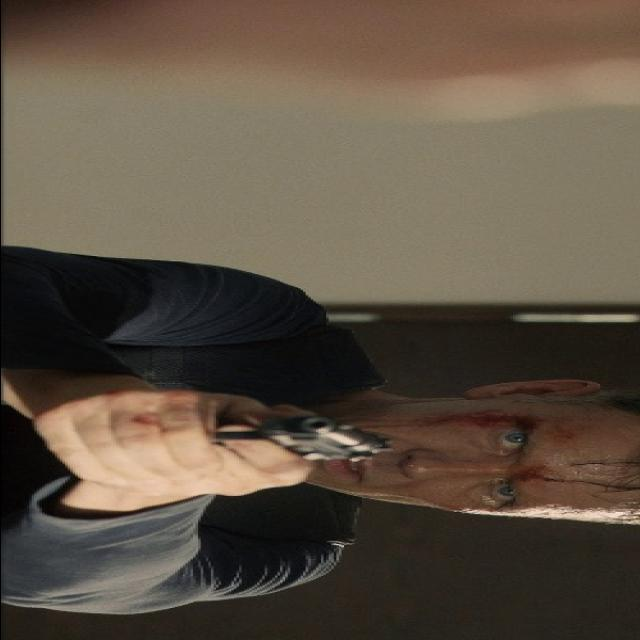weapons: (127, 404, 418, 474)
